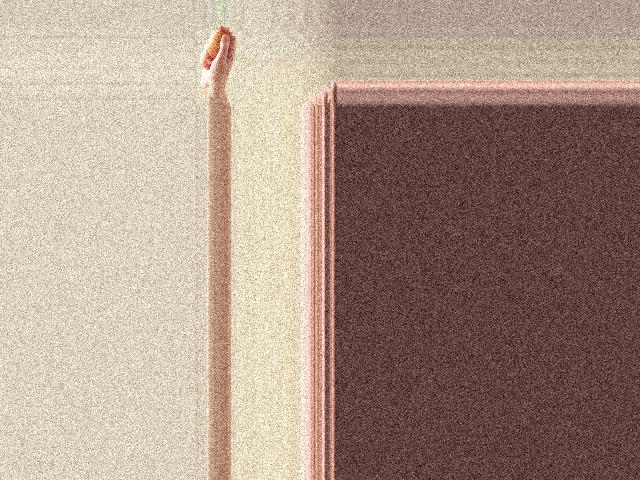egg: (205, 30, 227, 58)
